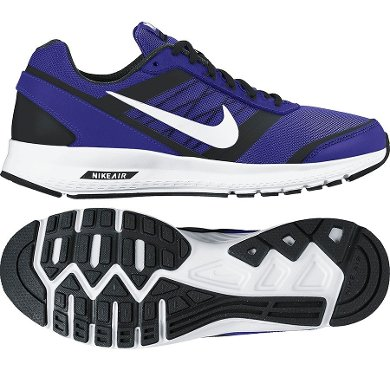nike: (105, 83, 244, 153)
